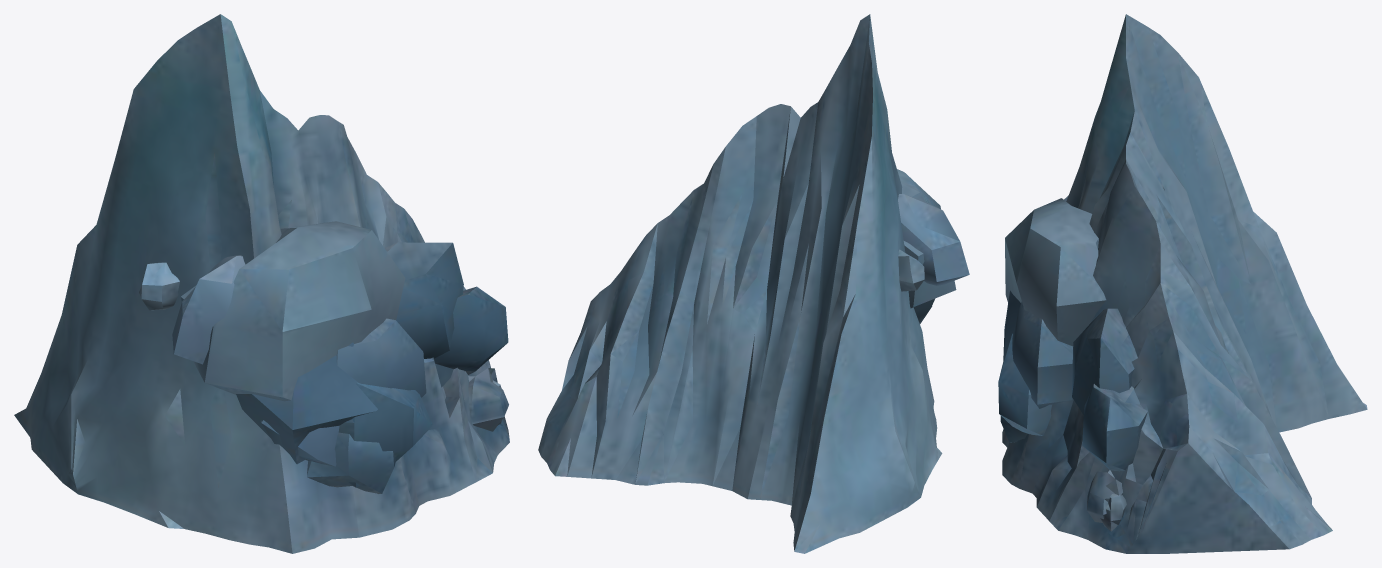
File: lithium-iceberg-big.glb
The picture shows the model from 3 angles, left to right: view 1: azimuth 30°, elevation 25°; view 2: azimuth 150°, elevation 25°; view 3: azimuth 270°, elevation 25°; orthographic projection. The views are drawn at different scales.
Visible parts, largest first — view 1: body; view 2: body; view 3: body.
Boxes of the visible parts, x1,y1,x2,y2 form: body: (14, 14, 509, 553); body: (538, 14, 969, 553); body: (998, 14, 1367, 553).
Size of the model in its own units: 1.89 by 2.27 by 1.81.
Materials: 1 (1 with a texture image).
